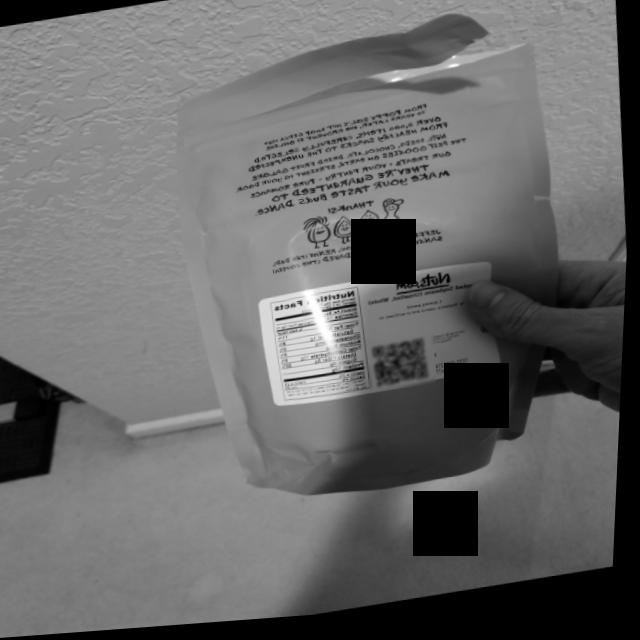QR_CODE: (368, 337, 440, 399)
